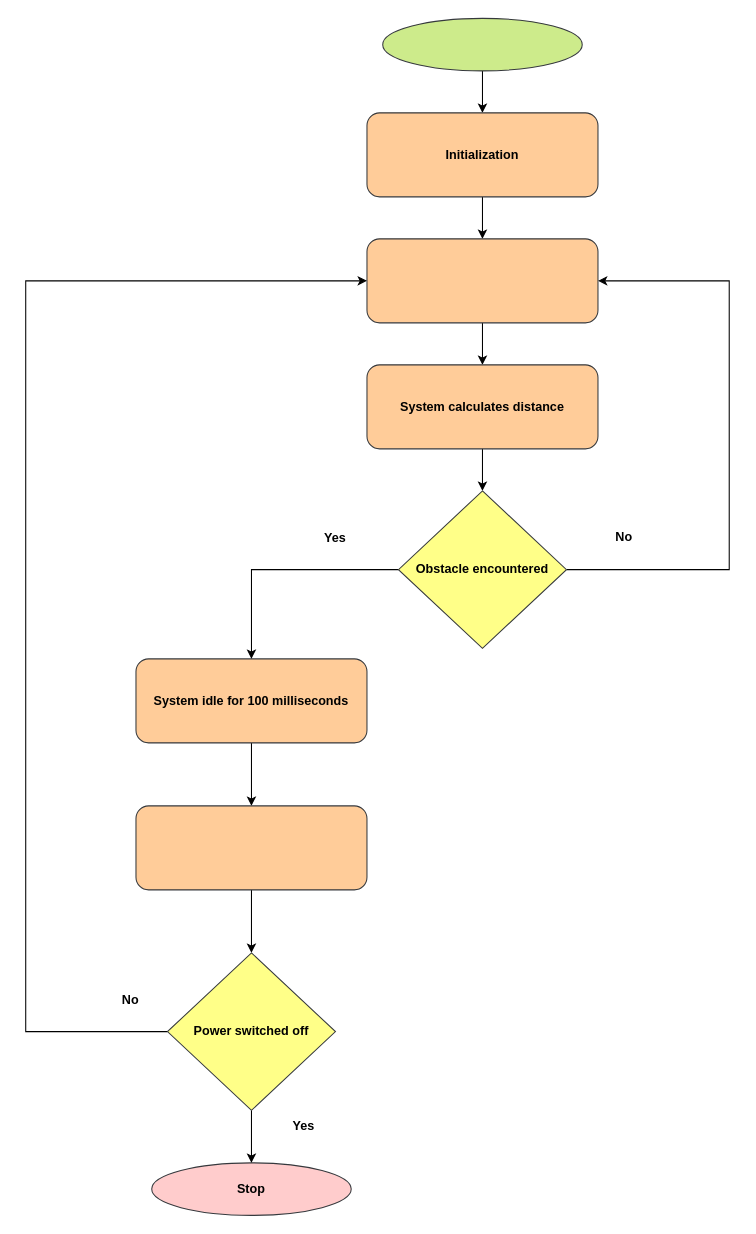
Some shapes in this 756 by 1234 pixel diagram are drawn without their labels. Each missing label, with the box of its shape:
Start: (382, 17, 582, 71)
System running in forward direction: (366, 238, 598, 323)
System takes a left turn: (135, 805, 367, 890)
